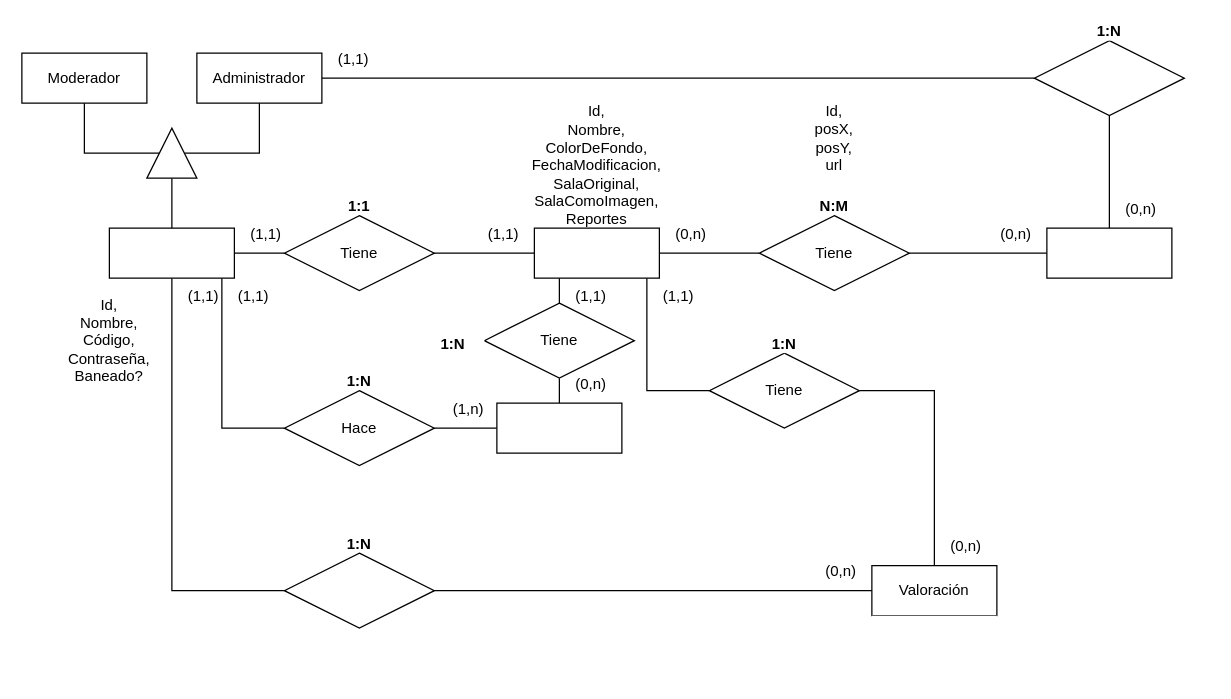
The diagram is 1231 pixels wide and 699 high, and some of its shapes have lost their labels. The shapes that lost their labels are listed below. From the top down, each one's centre as x and y in pixels, then its label:
(1108,77): Publica
(171,252): Usuario
(596,252): Sala
(1109,252): Imagen
(1109,334): Id, Nombre, Código, AdministradorDePublicacion, Accesible?
(559,427): Comentario
(559,508): Id, Usuario, Sala, Contenido, FechaDePublicacion, Reportes
(358,590): Pone
(933,646): Id, Usuario, Sala
